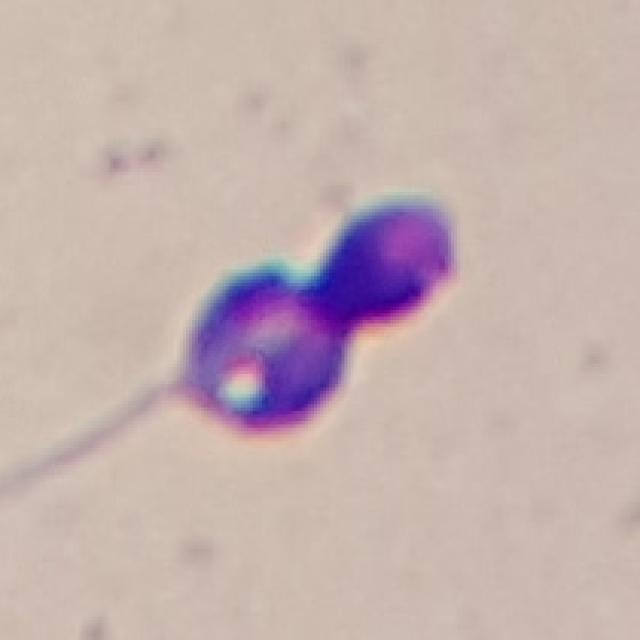abnormal sperm: (77, 198, 457, 450)
